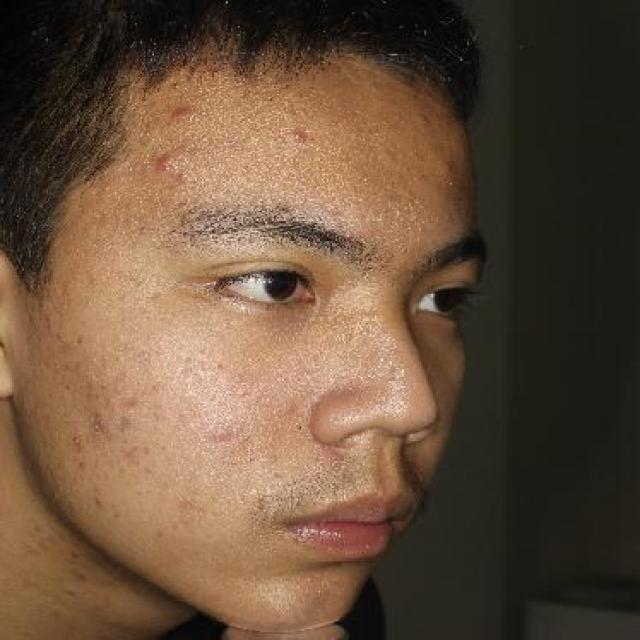papules: (147, 143, 183, 180), (282, 120, 314, 155), (164, 101, 198, 128), (426, 154, 459, 178), (168, 166, 196, 191)
